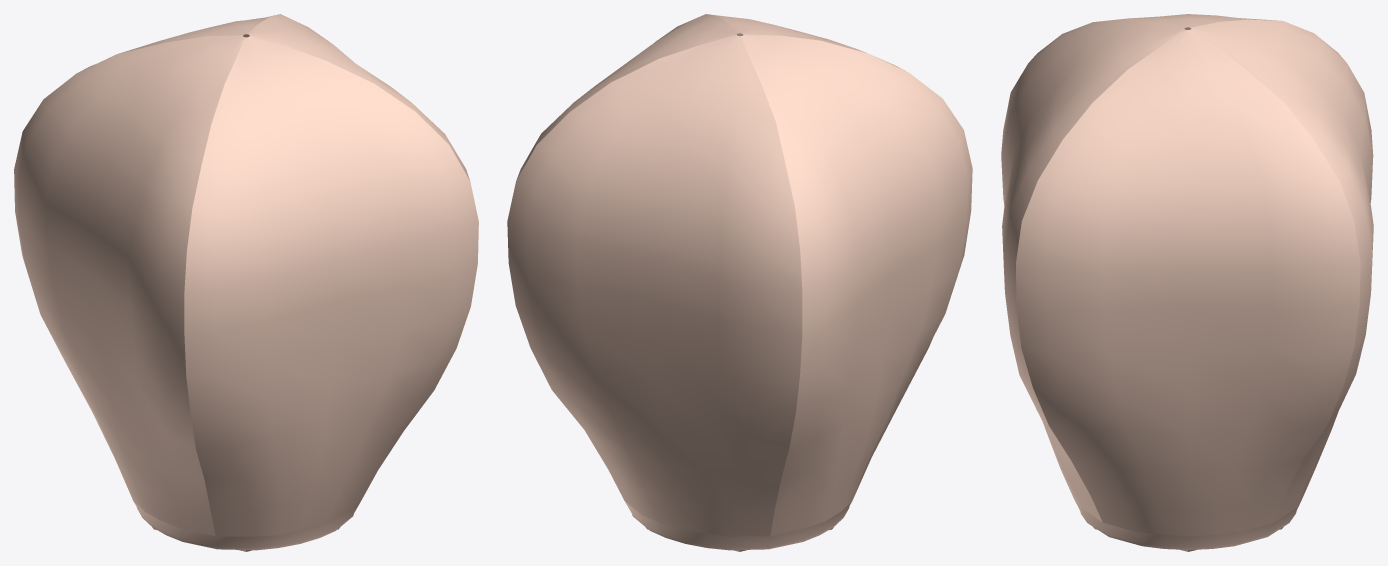
Rendered from sky_lantern.glb.
3 views of the same model, side by side, from view 1: azimuth 30°, elevation 25°; view 2: azimuth 150°, elevation 25°; view 3: azimuth 270°, elevation 25° (orthographic).
Parts seen in each view (by area): view 1: Low; view 2: Low; view 3: Low.
Boxes of the visible parts, bbox=[...] form: Low: bbox=[14, 14, 478, 551]; Low: bbox=[507, 14, 972, 551]; Low: bbox=[1001, 14, 1373, 551].
Bounding box in the file's own units: 0.5782 × 0.8175 × 0.578.
